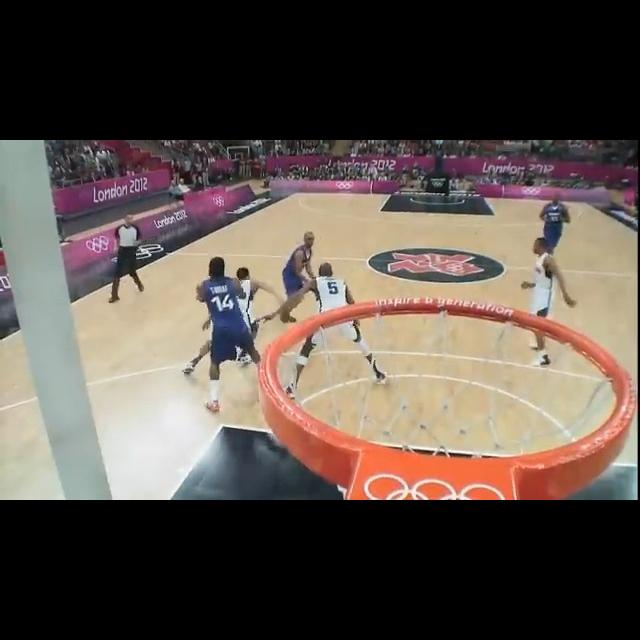hoop: (256, 296, 638, 500)
